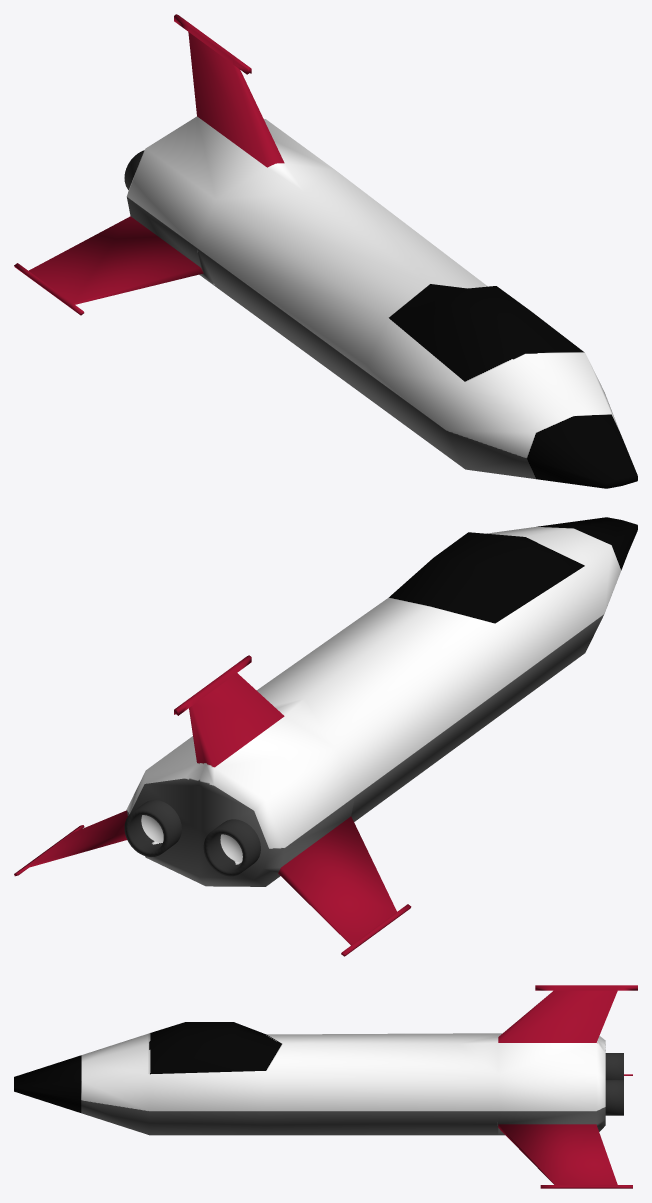
File: spaceship.fbx
The picture shows the model from 3 angles, top to bottom: view 1: azimuth 30°, elevation 25°; view 2: azimuth 150°, elevation 25°; view 3: azimuth 270°, elevation 25°; orthographic projection. The views are drawn at different scales.
Parts seen in each view (by area): view 1: Spaceship; view 2: Spaceship; view 3: Spaceship.
Boxes of the visible parts, box(x1,y1,x2,y2) form: Spaceship: box(14, 14, 637, 488); Spaceship: box(14, 517, 637, 956); Spaceship: box(14, 985, 637, 1188).
Size of the model in its own units: 12.87 by 7.8 by 30.
2 materials, 1 textured.
